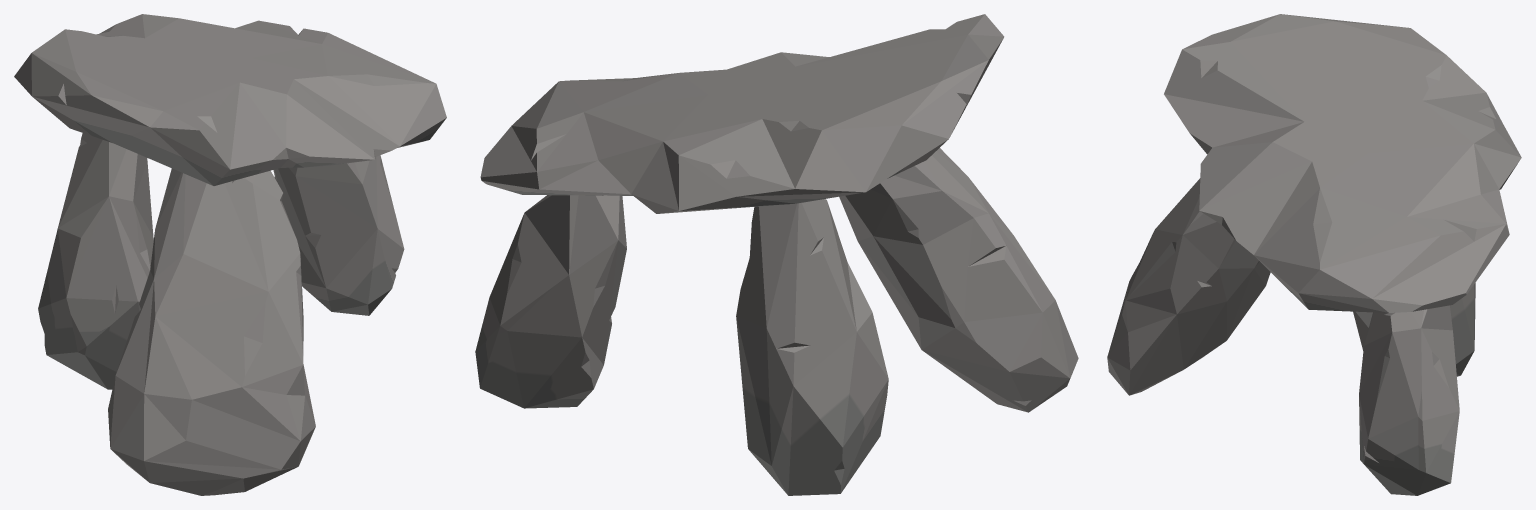
The model's file is SM_Prop_StoneStack_01.fbx.
The picture shows the model from 3 angles, left to right: view 1: azimuth 30°, elevation 25°; view 2: azimuth 150°, elevation 25°; view 3: azimuth 270°, elevation 25°; orthographic projection. The views are drawn at different scales.
Visible parts, largest first — view 1: SM_Prop_StoneStack_01; view 2: SM_Prop_StoneStack_01; view 3: SM_Prop_StoneStack_01.
Boxes of the visible parts, x1=… form: SM_Prop_StoneStack_01: x1=14, y1=14, x2=446, y2=495; SM_Prop_StoneStack_01: x1=475, y1=14, x2=1078, y2=495; SM_Prop_StoneStack_01: x1=1107, y1=14, x2=1521, y2=495.
Bounding box in the file's own units: 581 × 491 × 538.
Materials: 1 (1 with a texture image).
